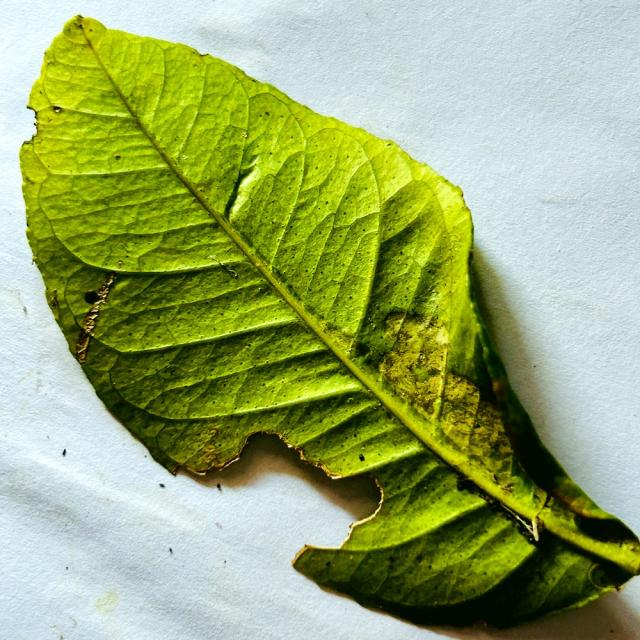Deficiency Leaf: (178, 434, 380, 547)
Lemon: (20, 17, 639, 623)
